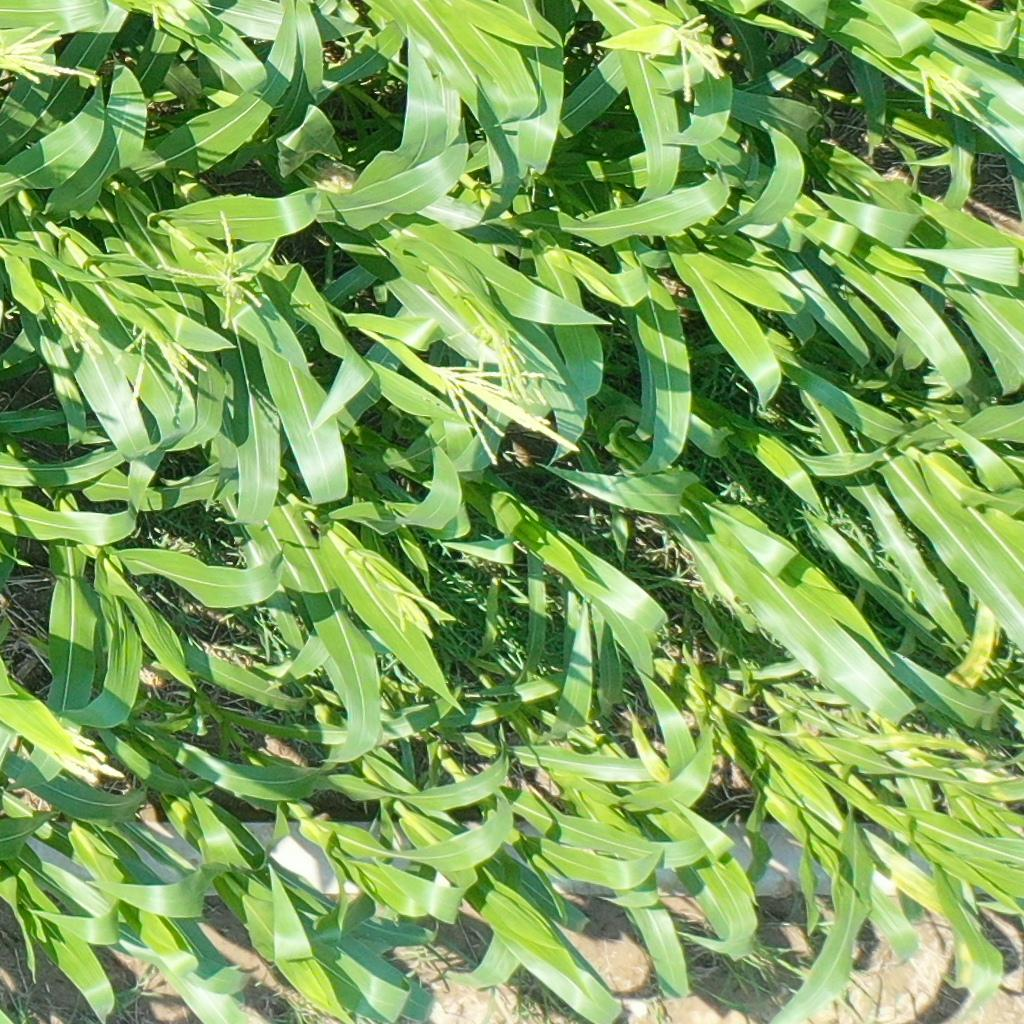Tassel: (419, 354, 592, 475), (154, 211, 270, 328), (442, 315, 551, 408), (118, 313, 210, 415), (646, 6, 736, 105), (1, 20, 102, 96), (49, 723, 125, 795), (911, 59, 985, 122), (41, 300, 115, 359), (392, 590, 440, 645), (147, 1, 199, 33)
